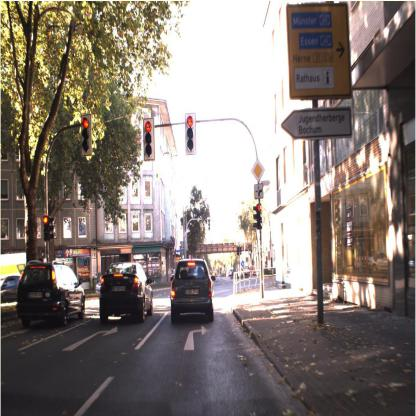other: (248, 152, 266, 186)
